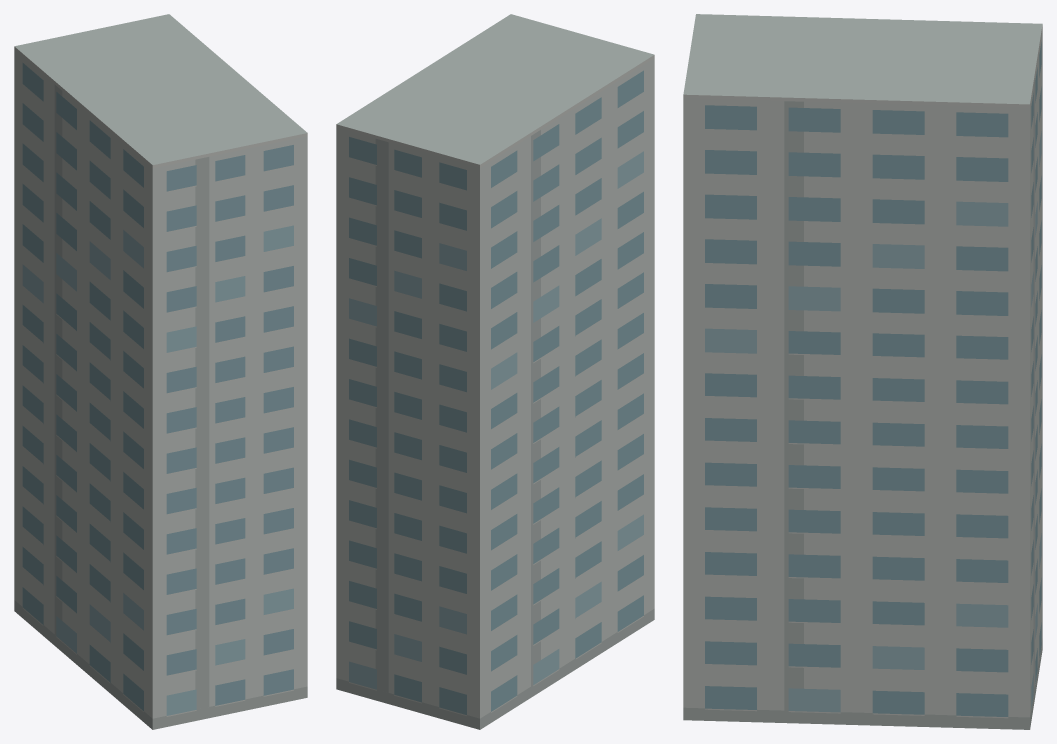
File: residential-38433207-cd65-4f5d-8c1c-c2012c7bfb4c.glb
3 views of the same model, side by side, from view 1: azimuth 30°, elevation 25°; view 2: azimuth 150°, elevation 25°; view 3: azimuth 270°, elevation 25° (orthographic). The views are drawn at different scales.
Visible parts, largest first — view 1: residential-38433207-cd65-4f5d-8c1c-c2012c7bfb4c.tmp; view 2: residential-38433207-cd65-4f5d-8c1c-c2012c7bfb4c.tmp; view 3: residential-38433207-cd65-4f5d-8c1c-c2012c7bfb4c.tmp.
Part boxes in pixels (x1=…): residential-38433207-cd65-4f5d-8c1c-c2012c7bfb4c.tmp: x1=14, y1=14, x2=307, y2=729; residential-38433207-cd65-4f5d-8c1c-c2012c7bfb4c.tmp: x1=336, y1=14, x2=654, y2=729; residential-38433207-cd65-4f5d-8c1c-c2012c7bfb4c.tmp: x1=683, y1=14, x2=1042, y2=729.
Bounding box in the file's own units: 13.03 × 42 × 21.88.
